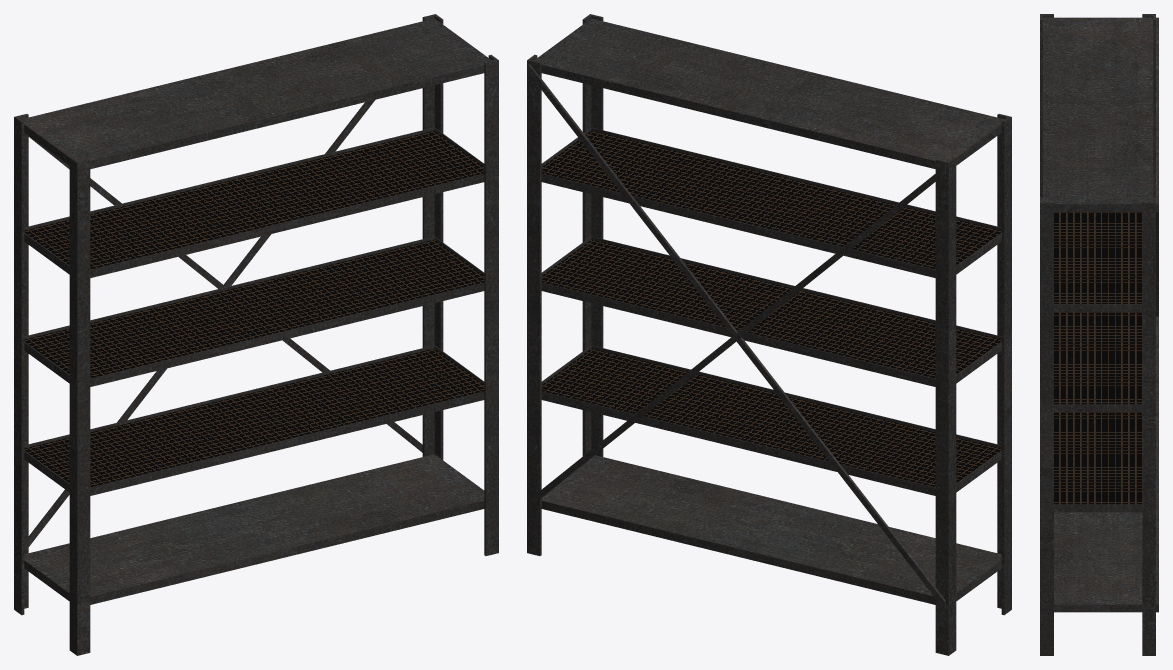
Rendered from shelf_mx_4_1.obj.
The picture shows the model from 3 angles, left to right: view 1: azimuth 30°, elevation 25°; view 2: azimuth 150°, elevation 25°; view 3: azimuth 270°, elevation 25°; orthographic projection. The views are drawn at different scales.
Visible parts, largest first — view 1: shelf_mx_4_1; view 2: shelf_mx_4_1; view 3: shelf_mx_4_1.
Boxes of the visible parts, left/top/right/bottom form: shelf_mx_4_1: left=14, top=14, right=498, bottom=655; shelf_mx_4_1: left=527, top=14, right=1011, bottom=655; shelf_mx_4_1: left=1040, top=14, right=1158, bottom=655.
Bounding box in the file's own units: 1.62 × 1.81 × 0.43.
